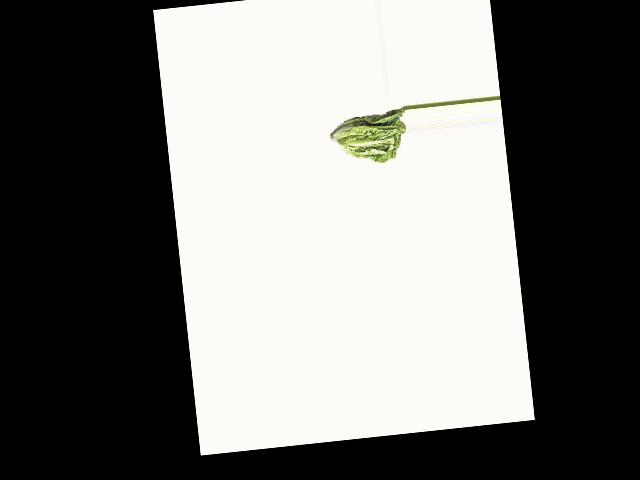lettuce: (330, 108, 409, 170)
